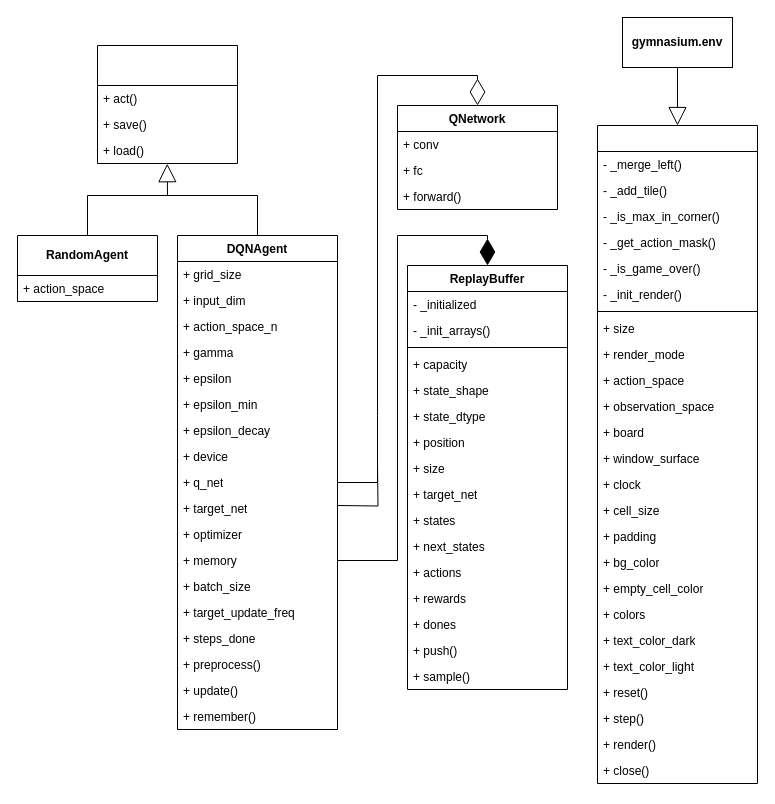
Some shapes in this 775 by 804 pixel diagram are drawn without their labels. The box of each missing label's shape, as (x1, y1, x2, y2) in pixels:
<<abstract>> BaseAgent: (96, 44, 238, 164)
TwentyFortyEightEnv: (596, 124, 758, 784)
